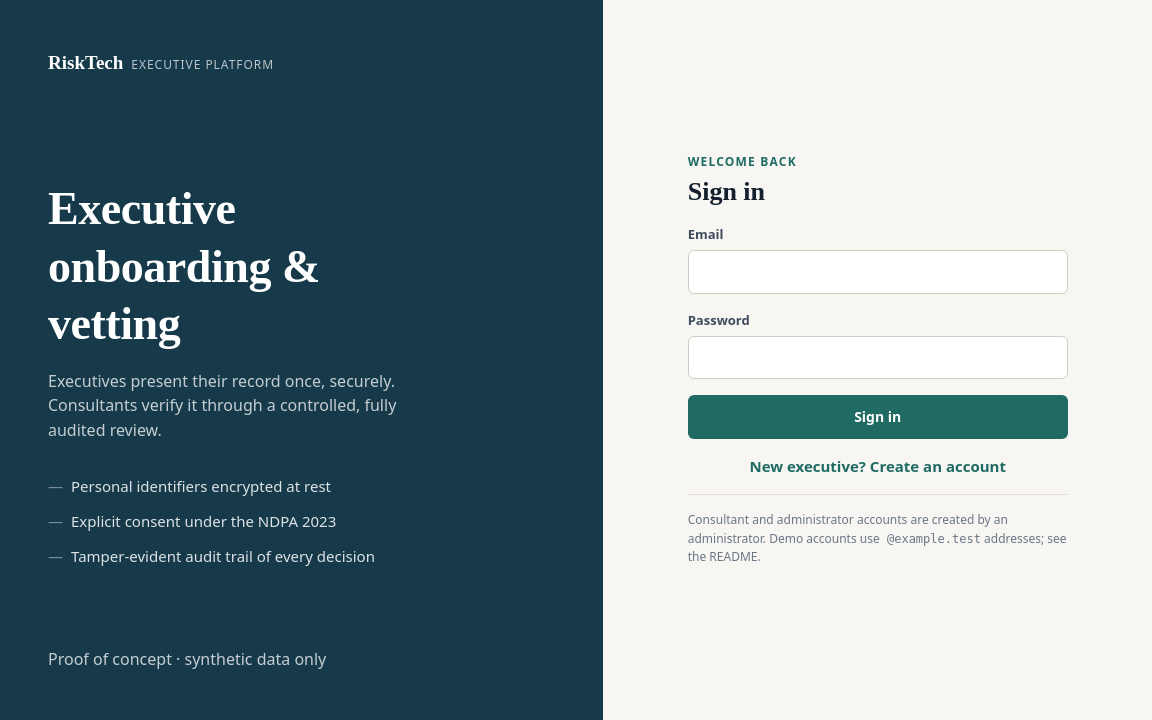
App sign-in › switches to the signed-in app immediately after a successful login
Type "exec1@example.test" into the field labelled "Email".
click(878, 272); type("exec1@example.test")  # box [688,250,1068,294]
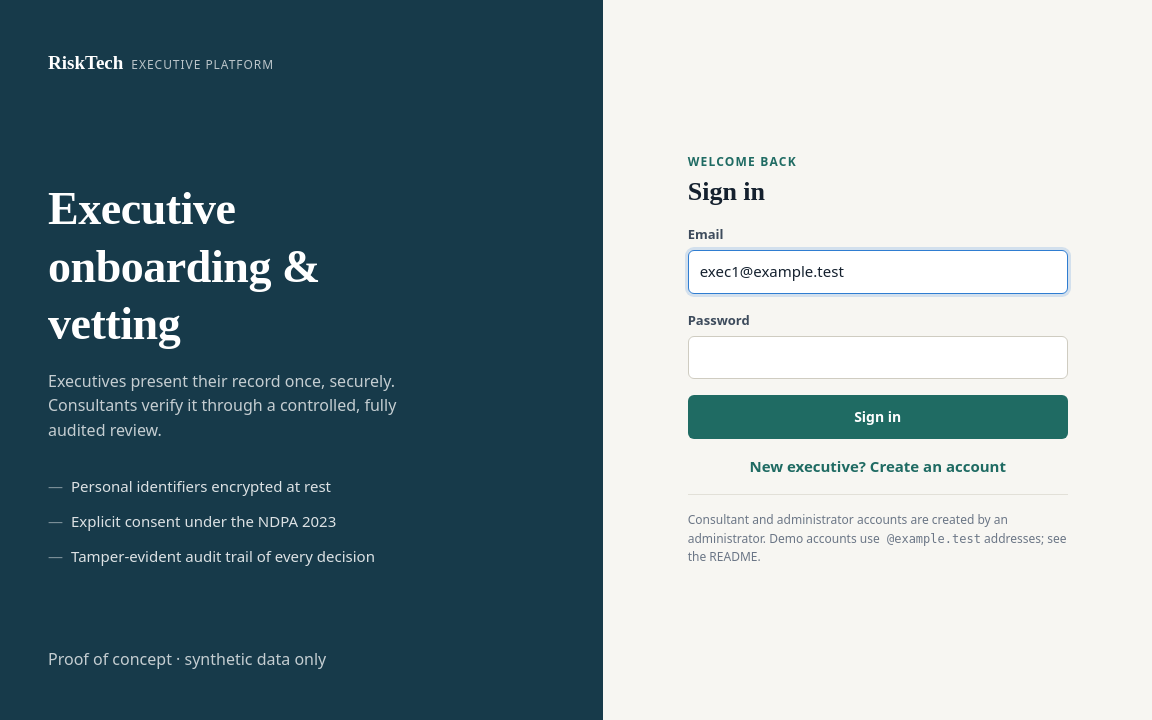
Type "dev-only-change-me-12" into the password field labelled "Password".
click(878, 357); type("dev-only-change-me-12")  # box [688,336,1068,379]
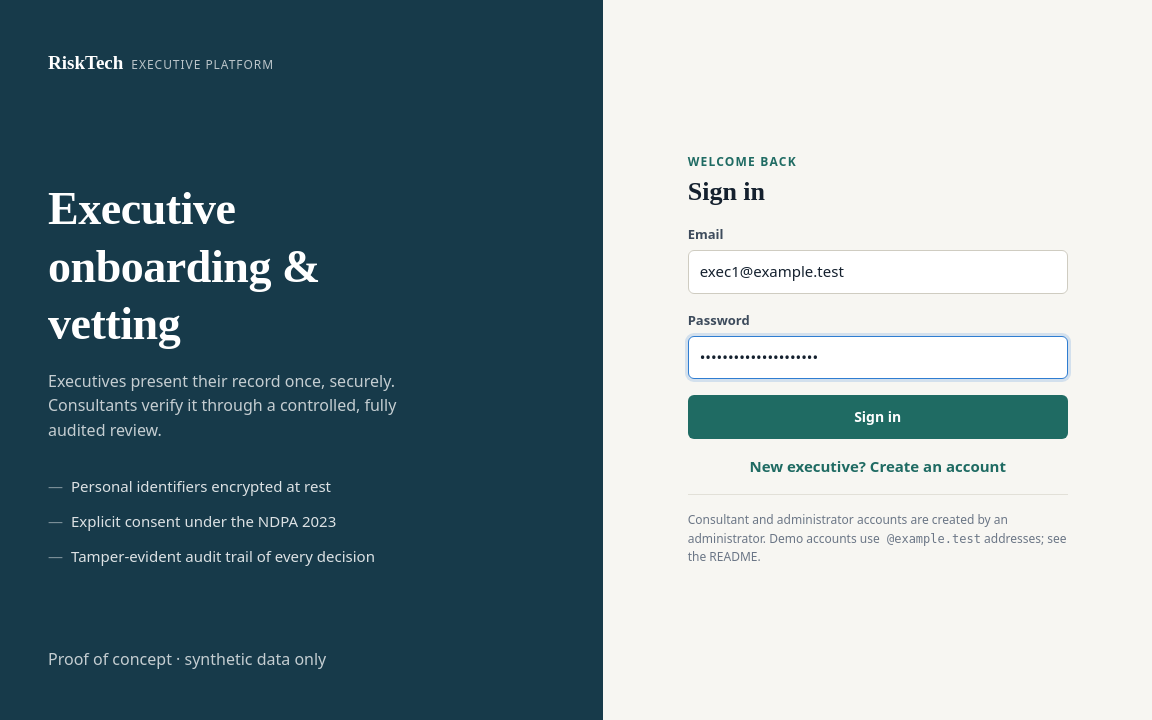
Click the button "Sign in".
click(878, 417)  # box [688,395,1068,439]
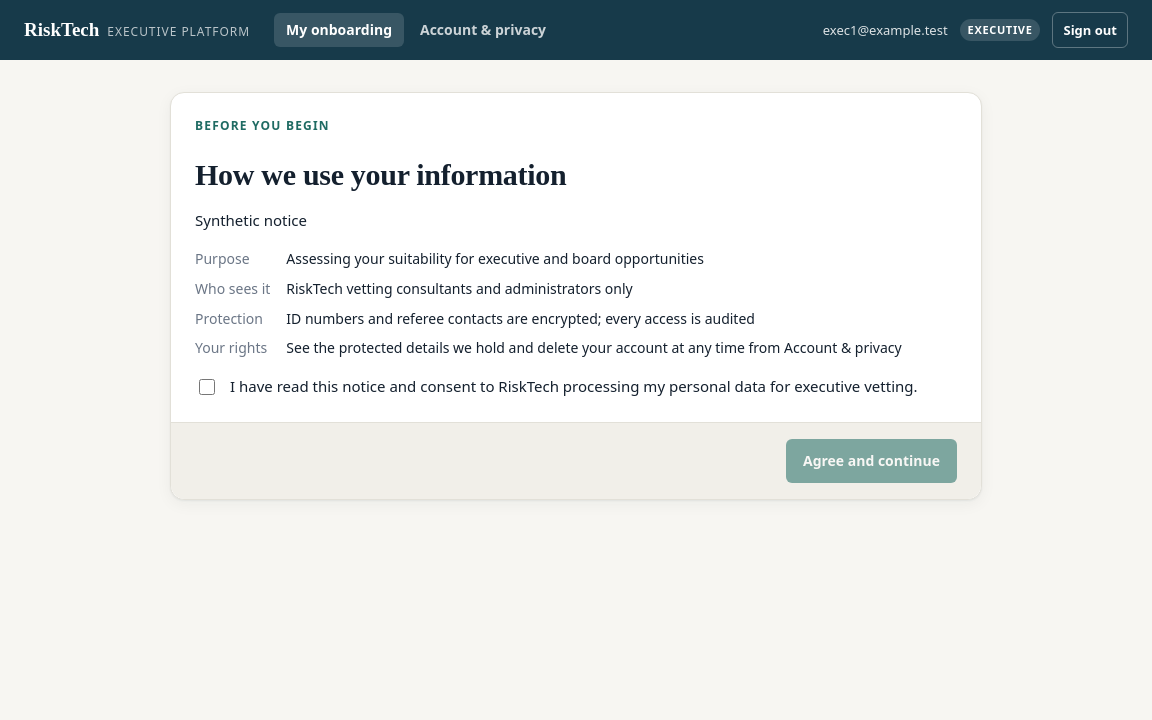
Now the text "exec1@example.test" is shown, box [823,20,948,40]
